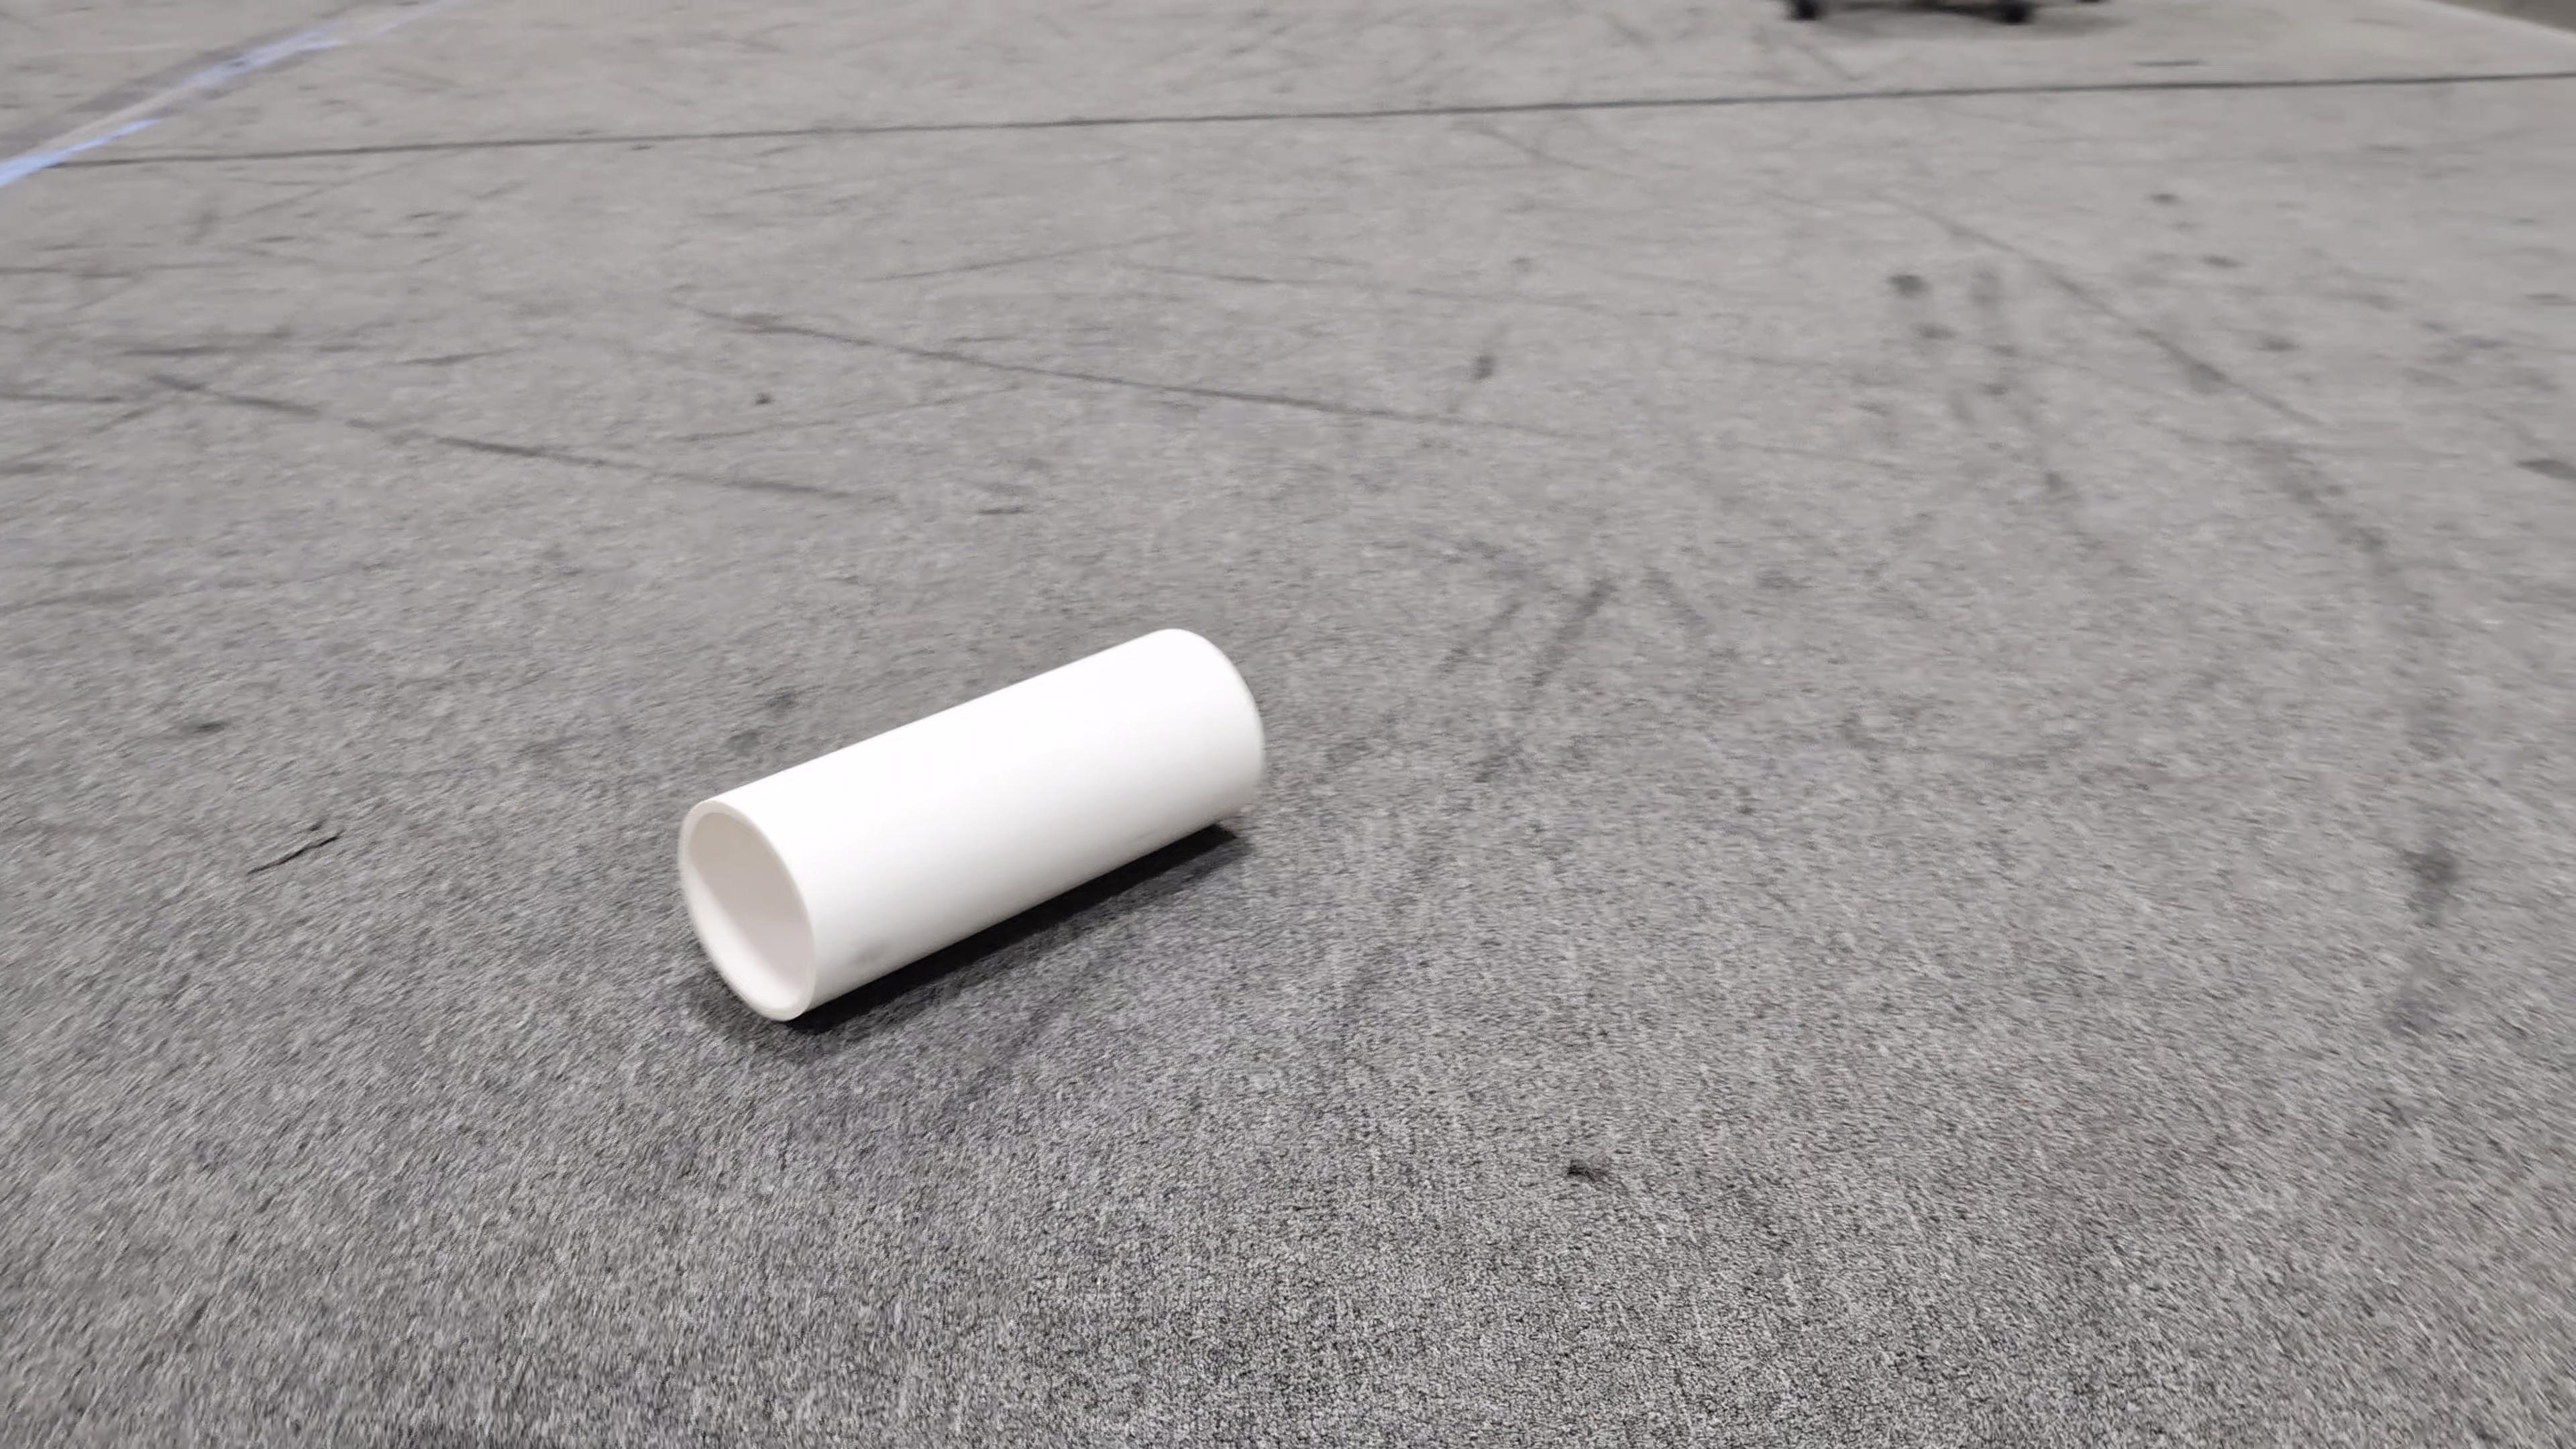coral: (674, 623, 1267, 1021)
